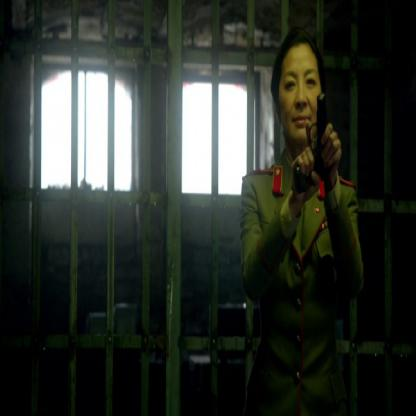Guns: (290, 86, 338, 198)
